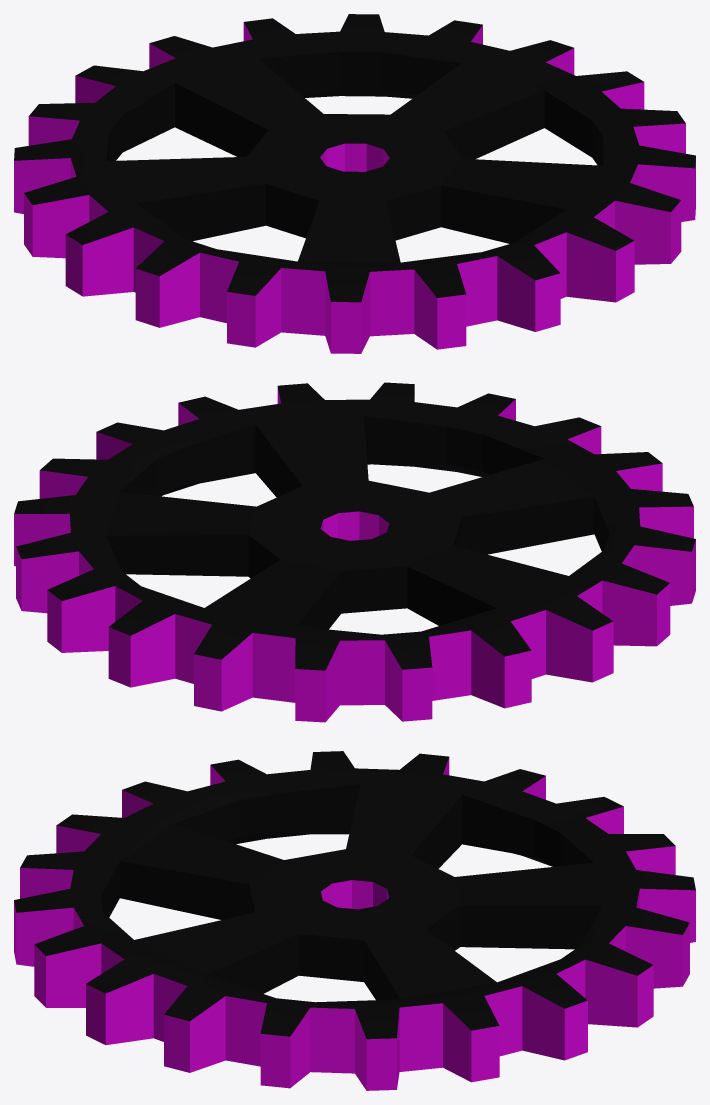
The model's file is D2GearV2.fbx.
3 views of the same model, one above another, from view 1: azimuth 30°, elevation 25°; view 2: azimuth 150°, elevation 25°; view 3: azimuth 270°, elevation 25° (orthographic).
Visible parts, largest first — view 1: D2GearV2; view 2: D2GearV2; view 3: D2GearV2.
Boxes of the visible parts, box(x1,y1,x2,y2) form: D2GearV2: box(14, 14, 695, 353); D2GearV2: box(14, 382, 695, 722); D2GearV2: box(14, 751, 695, 1090).
Bounding box in the file's own units: 4.79 × 0.5 × 4.79.
